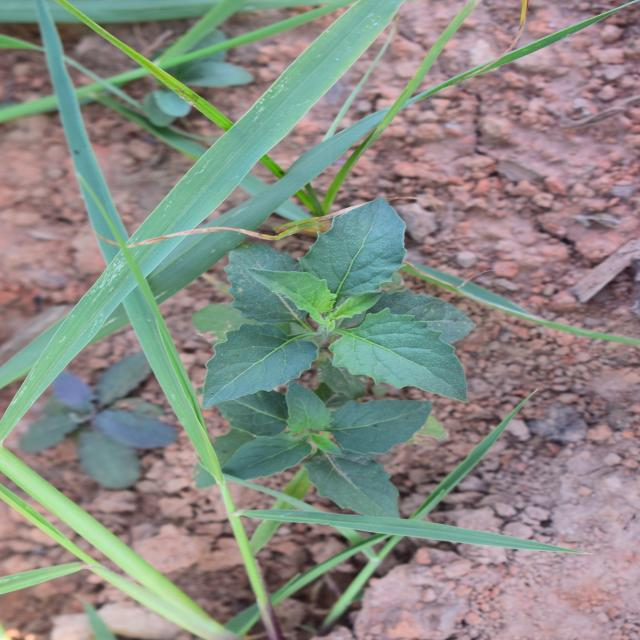Black_nightshade: (244, 207, 438, 448), (131, 220, 266, 438)
